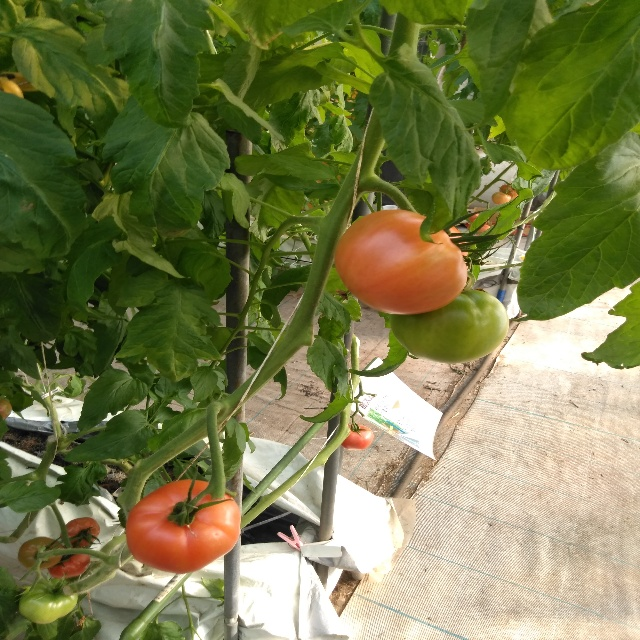b_fully_ripened: (126, 479, 241, 574), (46, 547, 91, 579), (341, 423, 374, 450)
b_green: (390, 290, 510, 365), (19, 578, 78, 624)
b_half_ripened: (334, 209, 467, 316), (18, 536, 65, 570), (61, 517, 101, 549), (492, 191, 511, 204)
